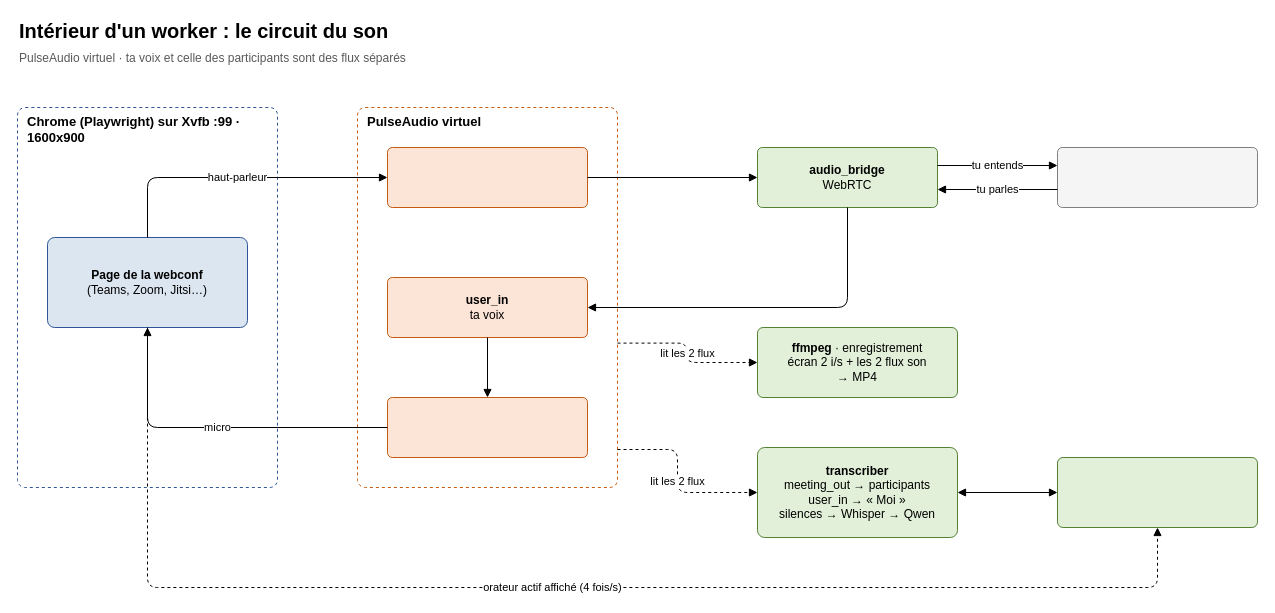
The diagram is 1275 pixels wide and 613 high, and some of its shapes have lost their labels. Each missing label, with the centre of its shape:
"meeting_out son de la réunion" belongs at point 487,177.
"speakers empreintes vocales + noms affichés" belongs at point 1157,492.
"virtmic micro vu par Chrome" belongs at point 487,427.
"🎧🎙️ ton navigateur" belongs at point 1157,177.
